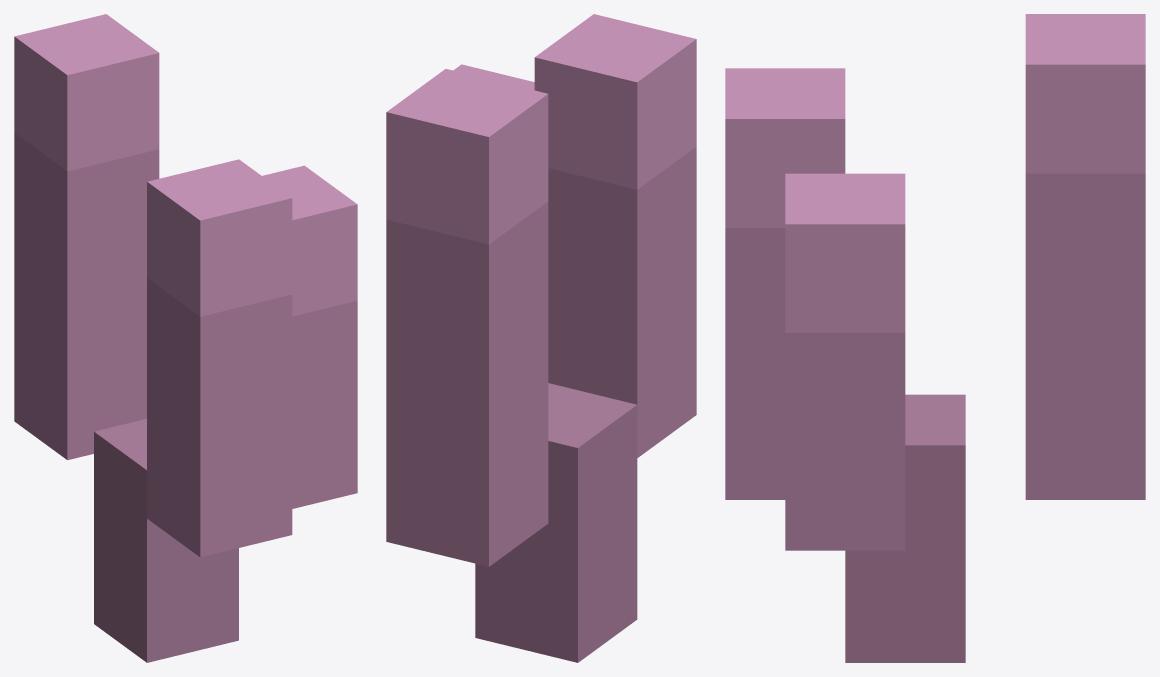
The model's file is coral_blando_07.glb.
The picture shows the model from 3 angles, left to right: view 1: azimuth 30°, elevation 25°; view 2: azimuth 150°, elevation 25°; view 3: azimuth 270°, elevation 25°; orthographic projection. The views are drawn at different scales.
Visible parts, largest first — view 1: coral_blando_07; view 2: coral_blando_07; view 3: coral_blando_07.
Part boxes in pixels (x1,y1,x2,y2): coral_blando_07: (14,14,357,662); coral_blando_07: (386,14,696,662); coral_blando_07: (725,14,1145,662).
Size of the model in its own units: 0.4 by 1.1 by 0.7.
